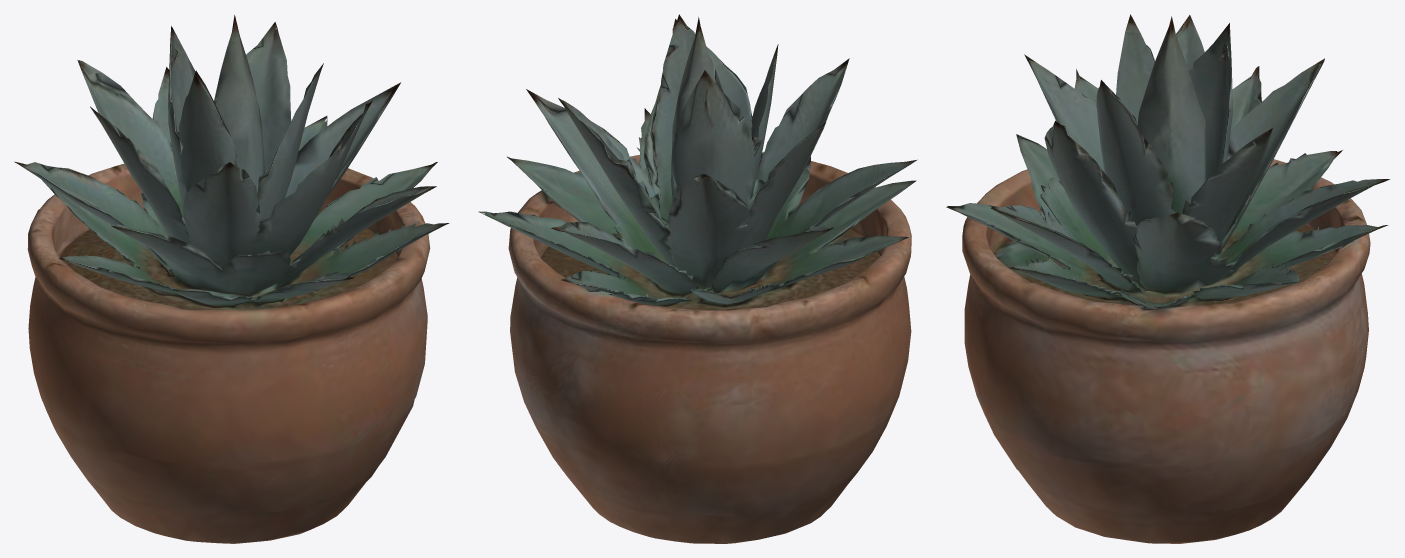
File: pot-agave.glb
The picture shows the model from 3 angles, left to right: view 1: azimuth 30°, elevation 25°; view 2: azimuth 150°, elevation 25°; view 3: azimuth 270°, elevation 25°; orthographic projection.
Parts seen in each view (by area): view 1: tripo_node_7a316dce-258c-4b72-abf4-30c27d622635; view 2: tripo_node_7a316dce-258c-4b72-abf4-30c27d622635; view 3: tripo_node_7a316dce-258c-4b72-abf4-30c27d622635.
Boxes of the visible parts, bbox=[...] form: tripo_node_7a316dce-258c-4b72-abf4-30c27d622635: bbox=[14, 15, 449, 543]; tripo_node_7a316dce-258c-4b72-abf4-30c27d622635: bbox=[478, 14, 917, 543]; tripo_node_7a316dce-258c-4b72-abf4-30c27d622635: bbox=[946, 14, 1389, 543].
Size of the model in its own units: 0.429 by 0.5 by 0.4176.
1 material, 1 textured.
